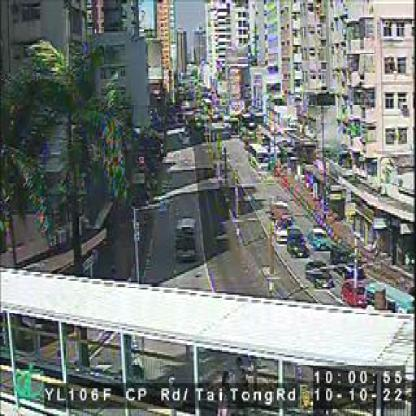Bus: (176, 220, 198, 262), (247, 143, 269, 173)
Car: (341, 278, 368, 308), (307, 264, 332, 286), (308, 227, 327, 251)
